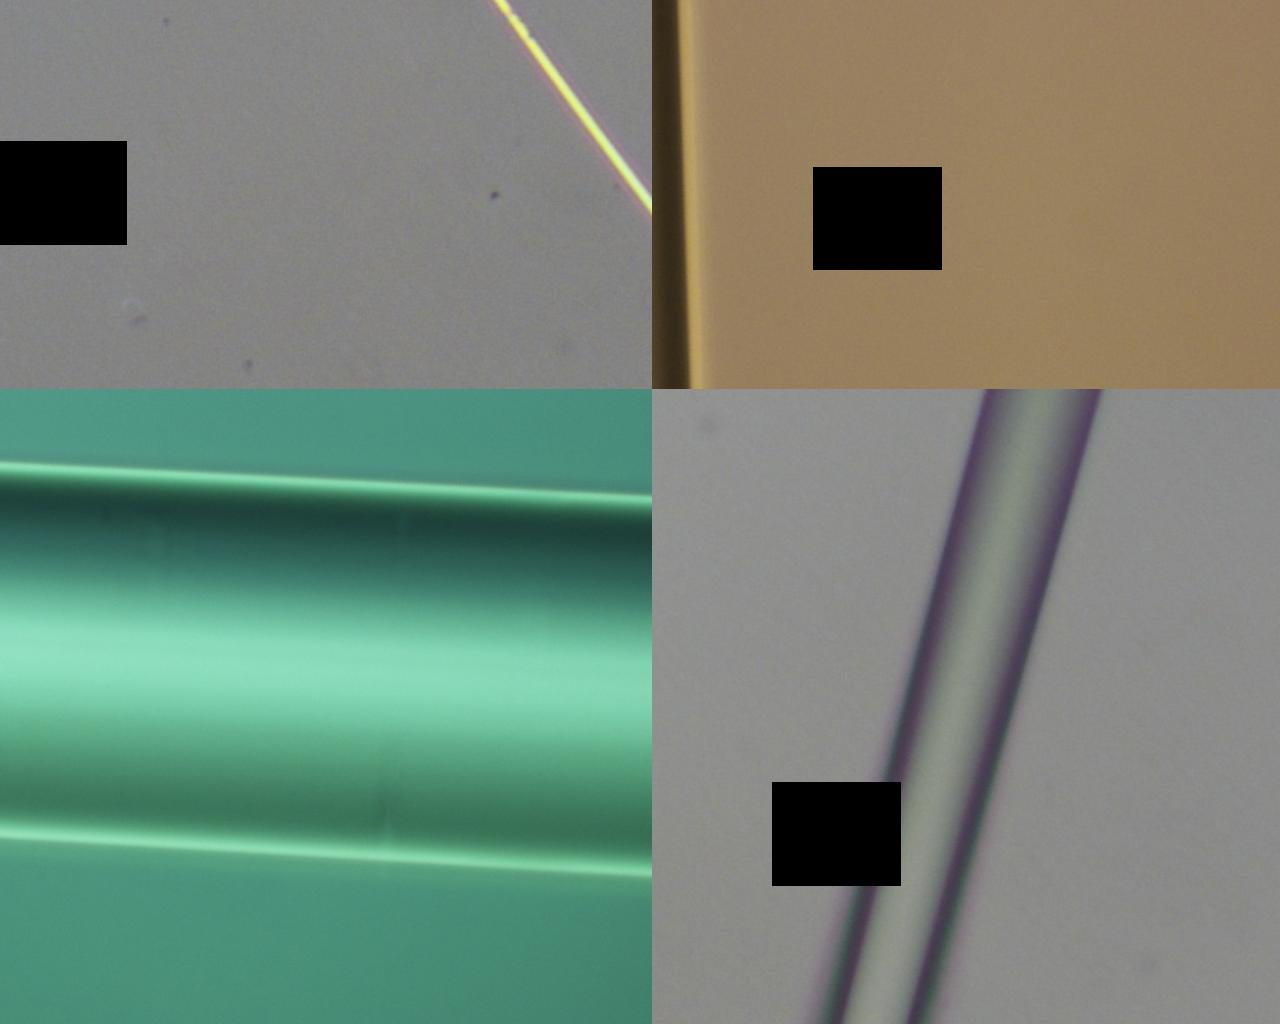fiber: (0, 0, 648, 426), (94, 491, 332, 1024), (768, 491, 927, 1024)
